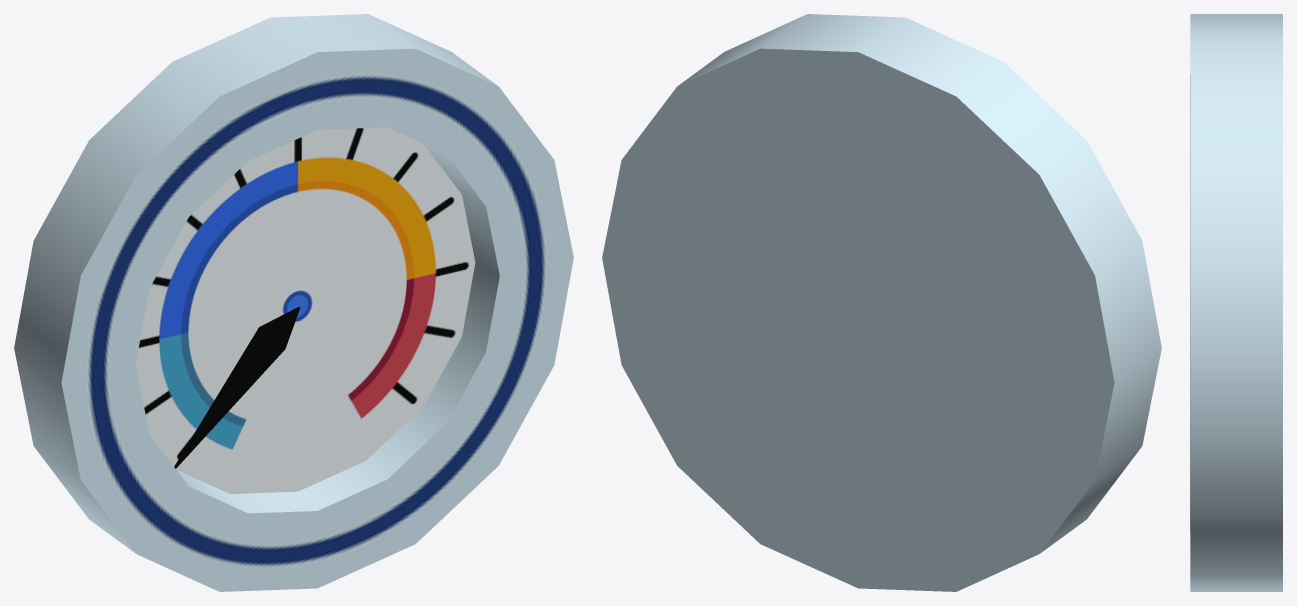
File: Barometer.fbx
3 renders of one model, left to right at view 1: azimuth 30°, elevation 25°; view 2: azimuth 150°, elevation 25°; view 3: azimuth 270°, elevation 25°, orthographic. The views are drawn at different scales.
Visible parts, largest first — view 1: Barometer, Arrow; view 2: Barometer; view 3: Barometer.
Boxes of the visible parts, box(x1,y1,x2,y2) form: Barometer: box(14, 14, 573, 591); Arrow: box(174, 307, 299, 468); Barometer: box(602, 14, 1161, 591); Barometer: box(1190, 14, 1282, 591).
Size of the model in its own units: 40.05 by 40.05 by 6.42.
